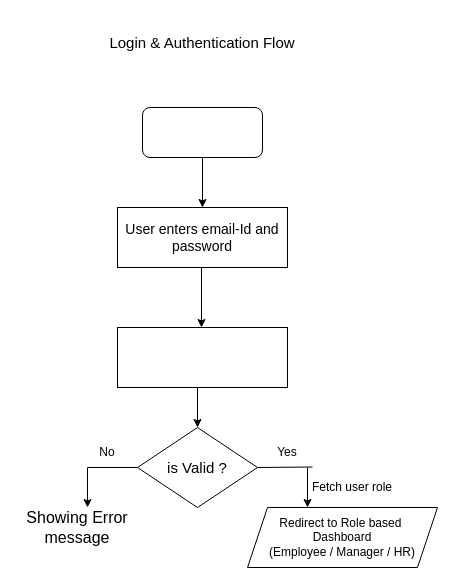
This 455x585 diagram has some shape labels left out. The centre of each missing label's shape, as x and y in pixels:
"System validates credentials" goes at point (202, 357).
"User" goes at point (202, 132).
